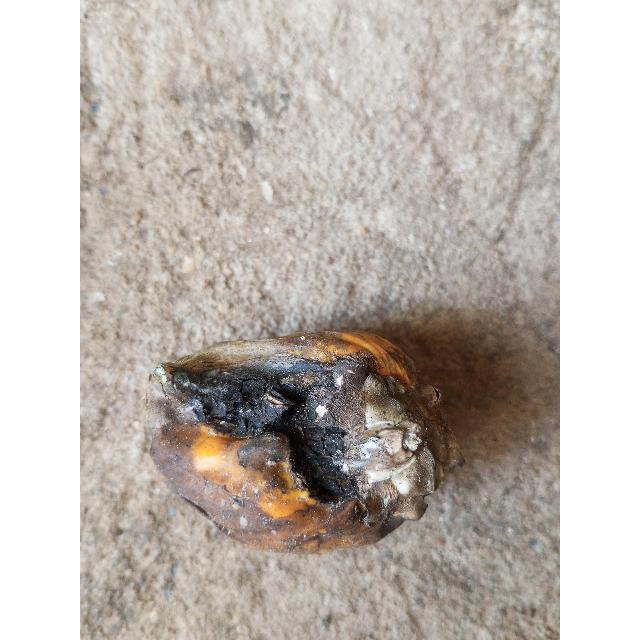damaged: (148, 330, 451, 556)
